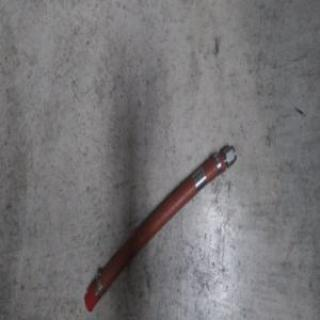Hosetrack_idkeyframe: (82, 138, 238, 312)
